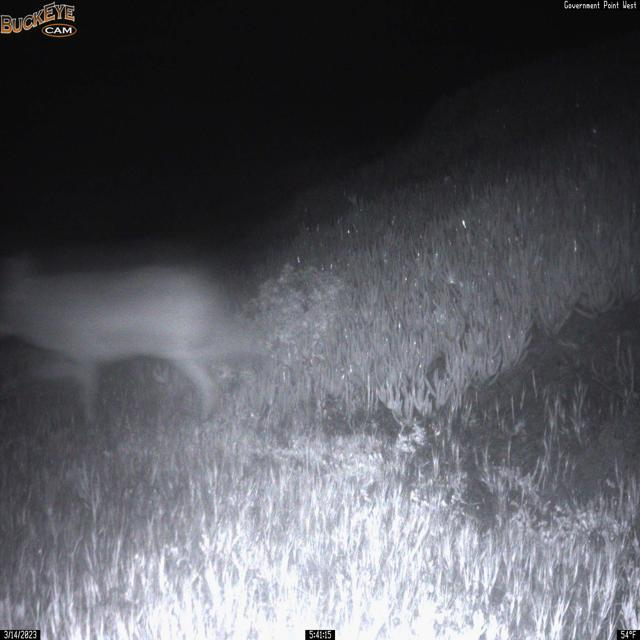coyote: (3, 230, 254, 431)
